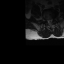CCS_normal: (48, 18, 50, 24)
LFS_severe_stenosis: (52, 17, 54, 21)
LLS_normal: (50, 18, 52, 23)
RFS_stenosis: (45, 18, 47, 22)
RLS_normal: (47, 18, 48, 23)
